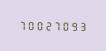nine: (71, 20, 79, 31)
seven: (17, 19, 25, 30), (53, 20, 61, 31)
three: (80, 20, 88, 31)
two: (44, 19, 52, 30)
zero: (26, 19, 34, 30), (35, 19, 43, 30), (62, 20, 70, 31)
